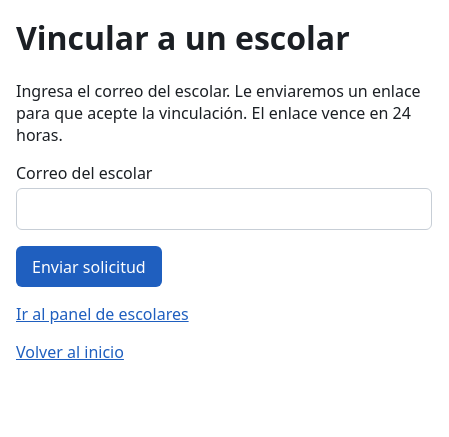
I06: vincular escolar › envía el correo del escolar
Expected: the heading "Vincular a un escolar" is shown, [16,16,350,59]
Expected: the link "Ir al panel de escolares" is shown, [16,303,189,325]
Type "escolar@example.com" into the field labelled "Correo del escolar".
click(224, 209); type("escolar@example.com")  # box [16,188,432,230]
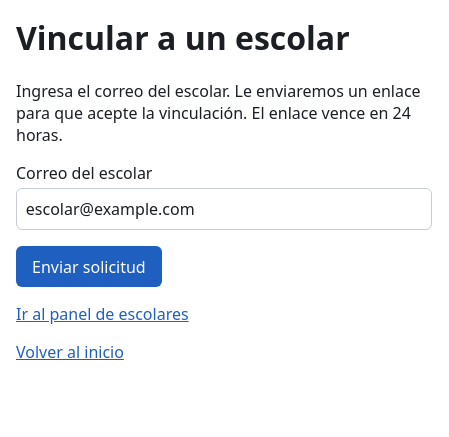
Click the button "Enviar solicitud".
click(89, 267)  # box [16,246,162,287]
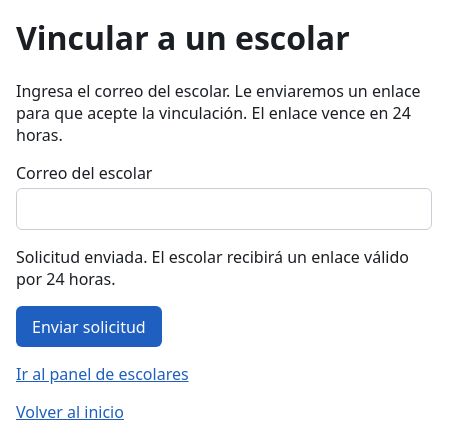
Expected: the text "Solicitud enviada. El escolar recibirá un enlace válido por 24 horas." is shown, [16,246,432,290]
